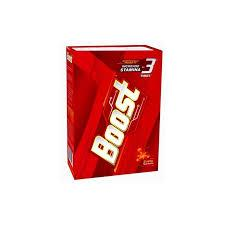Cardboard: (44, 32, 185, 187)
